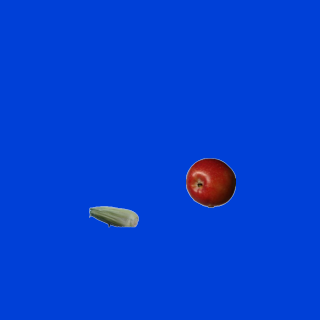Apple Braeburn: (185, 157, 235, 207)
Corn Husk: (88, 191, 138, 241)
